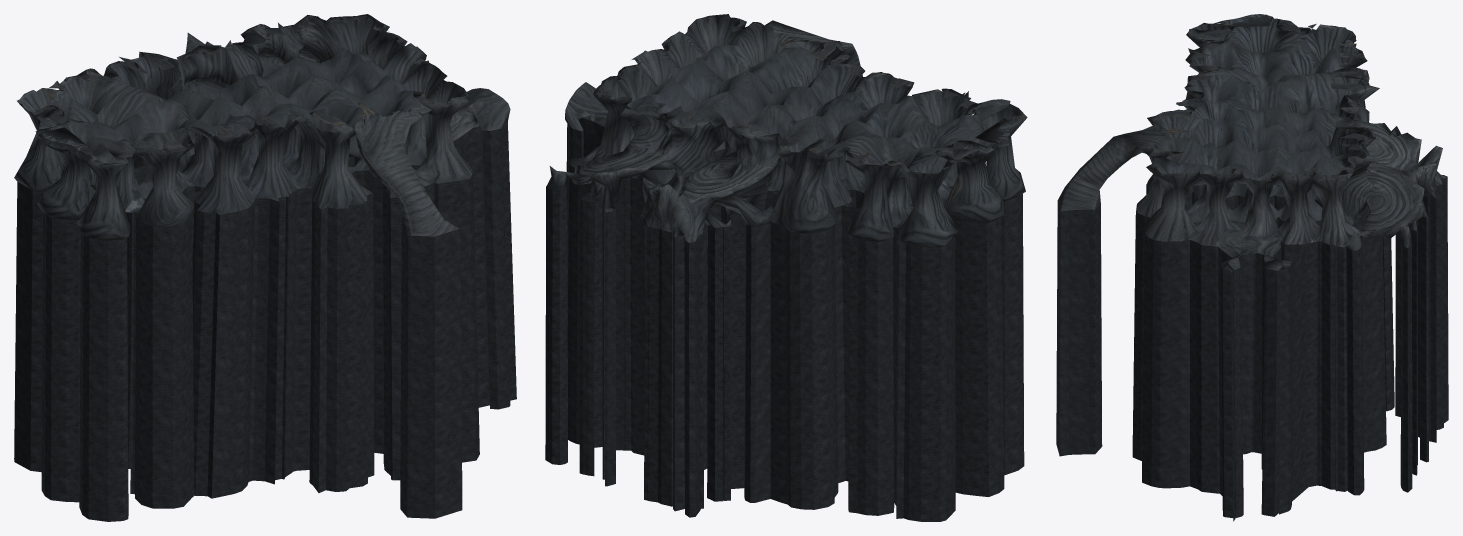
File: horaro_root_base.glb
3 renders of one model, left to right at view 1: azimuth 30°, elevation 25°; view 2: azimuth 150°, elevation 25°; view 3: azimuth 270°, elevation 25°, orthographic. The views are drawn at different scales.
Parts seen in each view (by area): view 1: horaro_root_base_L1_foundation, horaro_root_base; view 2: horaro_root_base_L1_foundation, horaro_root_base; view 3: horaro_root_base_L1_foundation, horaro_root_base.
Boxes of the visible parts, left/top/right/bottom form: horaro_root_base_L1_foundation: left=14, top=81, right=516, bottom=521; horaro_root_base: left=14, top=14, right=510, bottom=240; horaro_root_base_L1_foundation: left=545, top=117, right=1024, bottom=521; horaro_root_base: left=546, top=14, right=1027, bottom=246; horaro_root_base_L1_foundation: left=1056, top=175, right=1448, bottom=521; horaro_root_base: left=1057, top=14, right=1446, bottom=272.
Bounding box in the file's own units: 21.11 × 15.95 × 17.94.
Materials: 2 (2 with a texture image).
